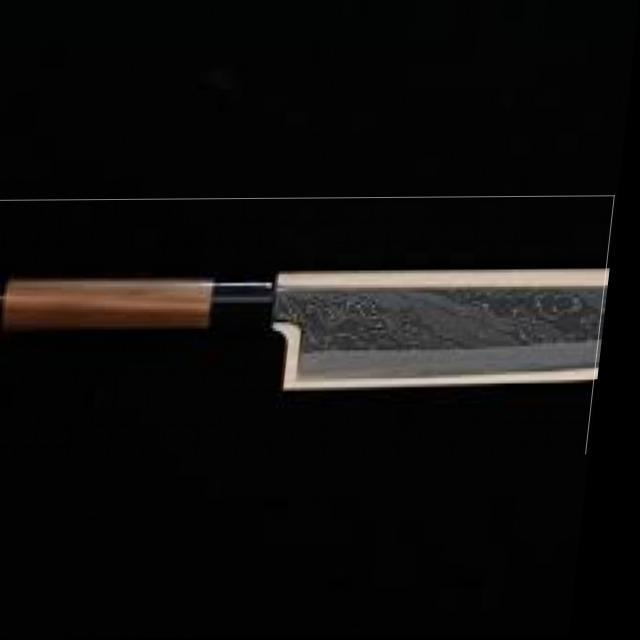knife: (0, 277, 609, 384)
